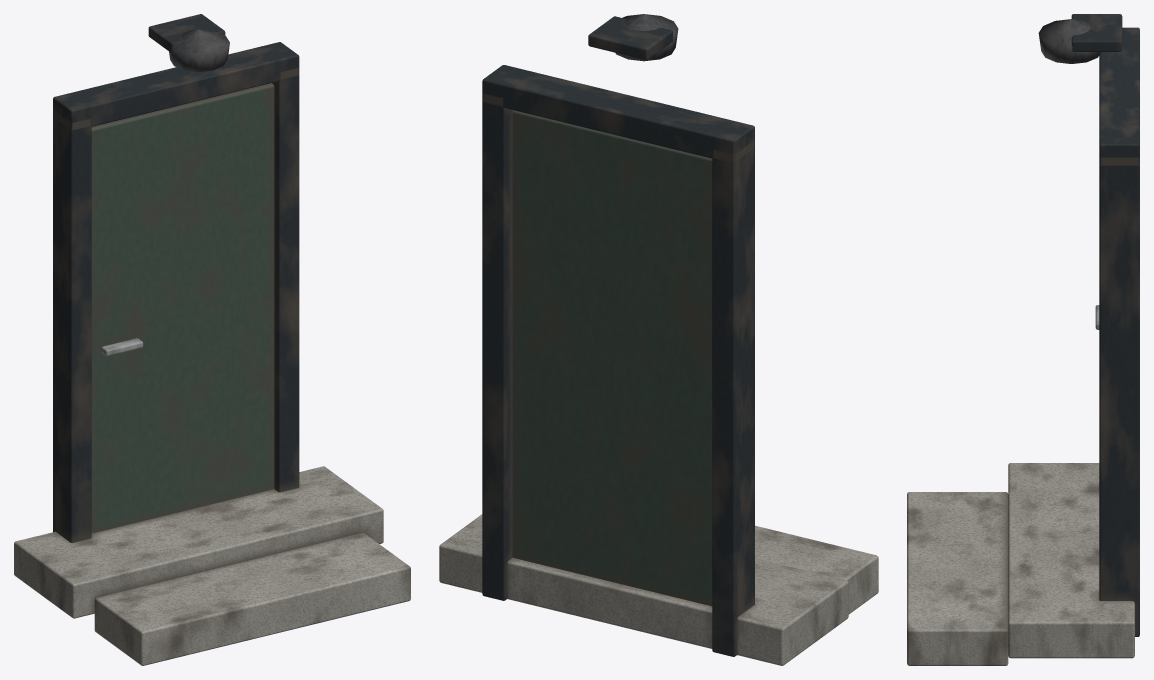
The model's file is pod_drzwi_tyl.glb.
3 views of the same model, side by side, from view 1: azimuth 30°, elevation 25°; view 2: azimuth 150°, elevation 25°; view 3: azimuth 270°, elevation 25° (orthographic). The views are drawn at different scales.
Parts seen in each view (by area): view 1: Drzwi; view 2: Drzwi; view 3: Drzwi.
Boxes of the visible parts, x1,y1,x2,y2 form: Drzwi: [14, 14, 410, 665]; Drzwi: [439, 14, 878, 665]; Drzwi: [907, 14, 1139, 665].
Bounding box in the file's own units: 1.5 × 2.52 × 0.92.
Materials: 2 (1 with a texture image).
